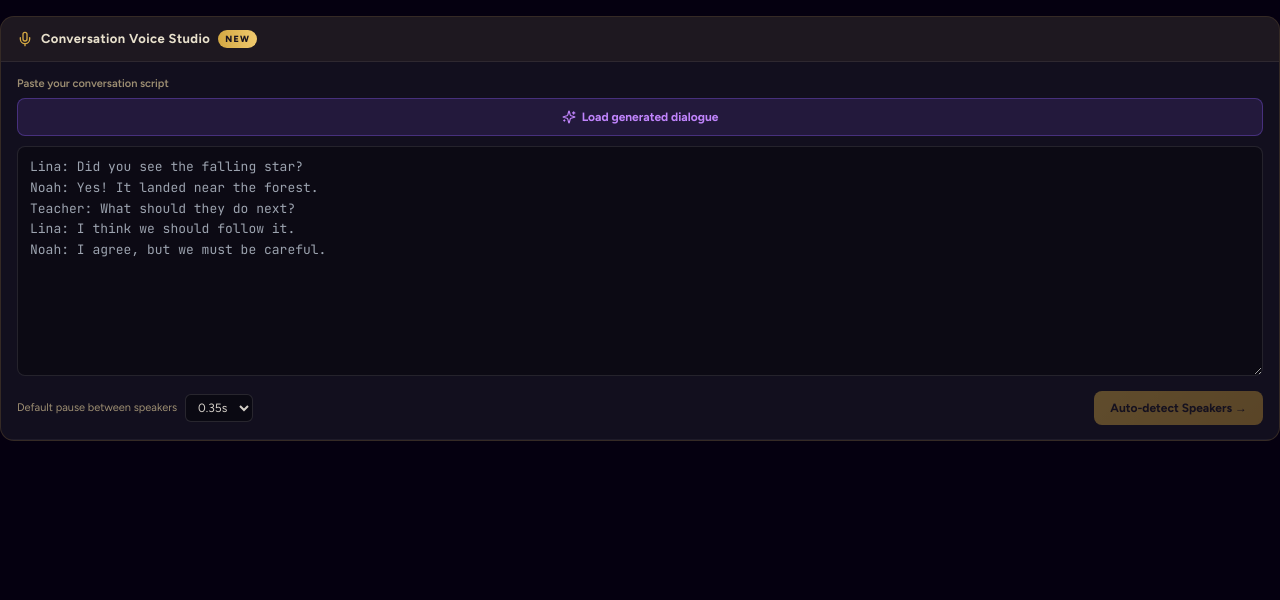
Test case: initialVoiceAssignments seeds a speaker's voice on parse, preset still wins
The width and height of the screenshot is (1280, 600).
Click the button with test id "cvs-load-generated-btn": (640, 117) [17,98,1263,136]
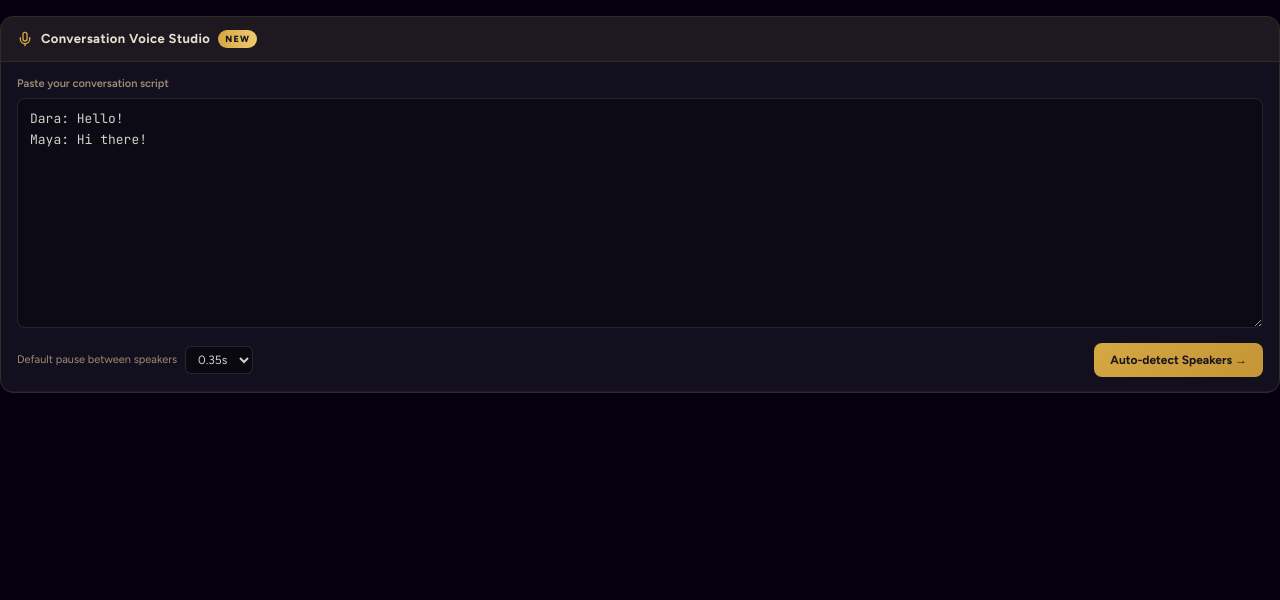
Click the button with test id "cvs-parse-btn": (1179, 360) [1094,344,1263,378]
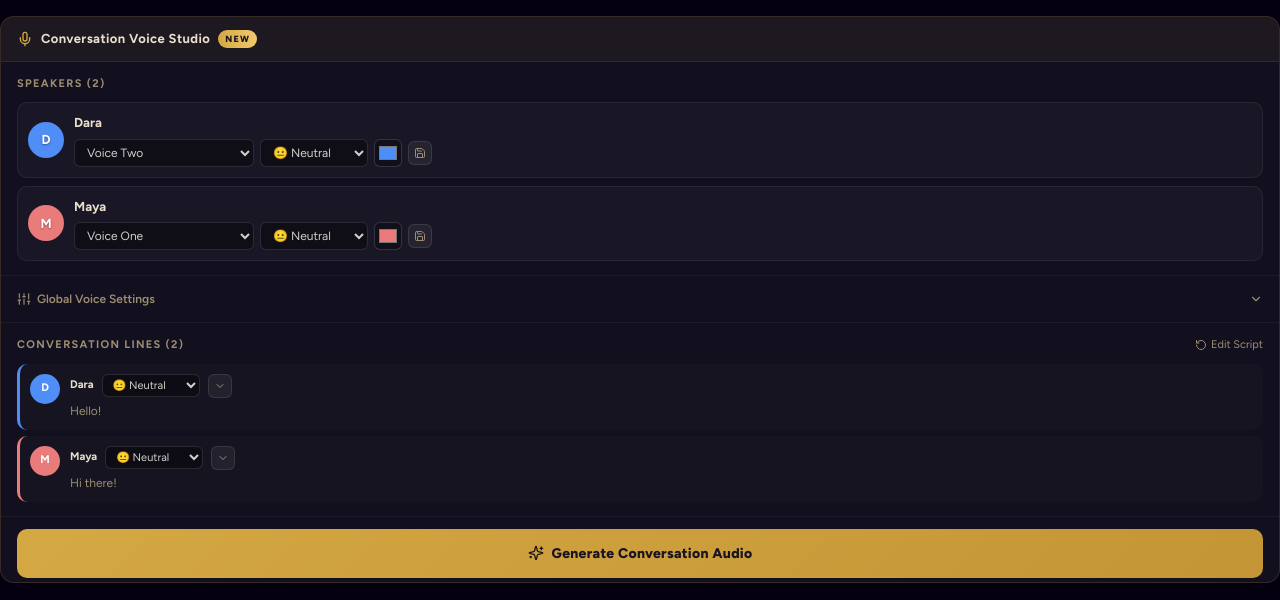
Expected: the dropdown with test id "cvs-speaker-voice-Dara" shows "Voice Two", [74,138,254,166]
Expected: the dropdown with test id "cvs-speaker-voice-Maya" shows "Voice One", [74,222,254,250]
